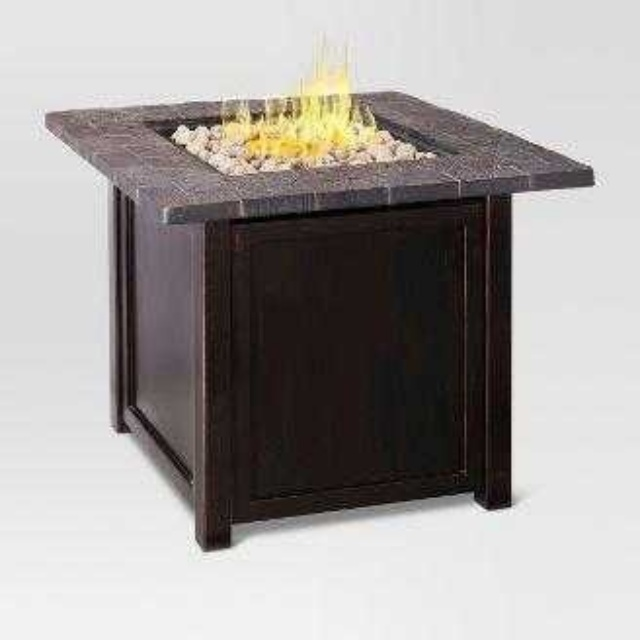obstacle: (45, 92, 591, 548)
